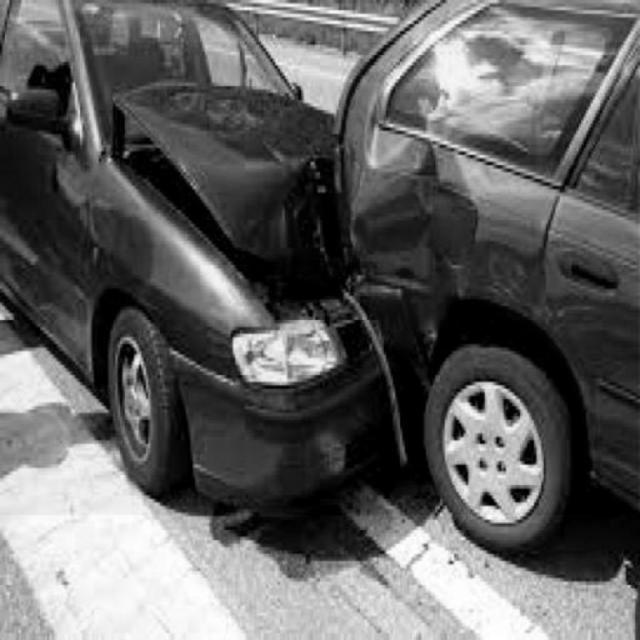accident: (0, 43, 638, 515)
